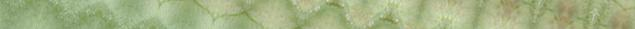Tomato mold leaf: (216, 0, 419, 29)
